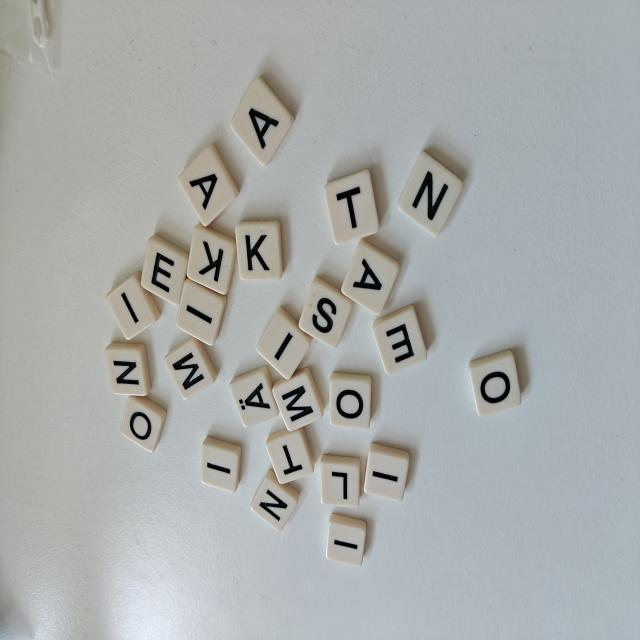a: (231, 77, 294, 166), (179, 145, 239, 226), (341, 239, 399, 315)
a_dot: (230, 366, 279, 427)
e: (372, 305, 426, 374), (141, 235, 189, 304)
i: (257, 307, 312, 379), (106, 272, 160, 339), (177, 279, 226, 345), (364, 443, 409, 501), (201, 437, 241, 492), (326, 513, 366, 565)
k: (187, 224, 236, 294), (235, 221, 283, 280)
l: (320, 455, 360, 507)
m: (272, 368, 324, 431), (165, 337, 217, 399)
n: (398, 152, 462, 236), (251, 469, 299, 531), (105, 342, 151, 396)
o: (469, 350, 521, 416), (121, 396, 166, 453), (330, 372, 371, 428)
s: (299, 277, 353, 348)
t: (324, 170, 379, 244), (266, 428, 314, 483)
